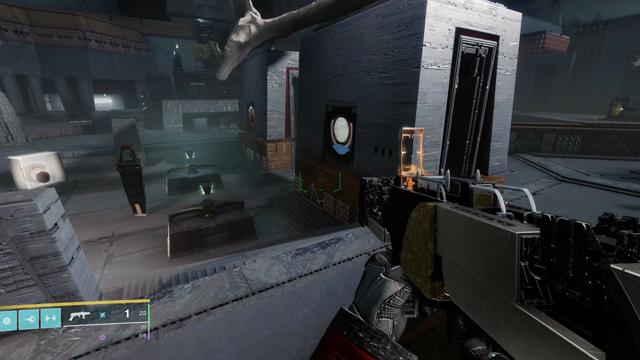pyramid: (248, 106, 255, 127)
traveler: (330, 114, 353, 154)
